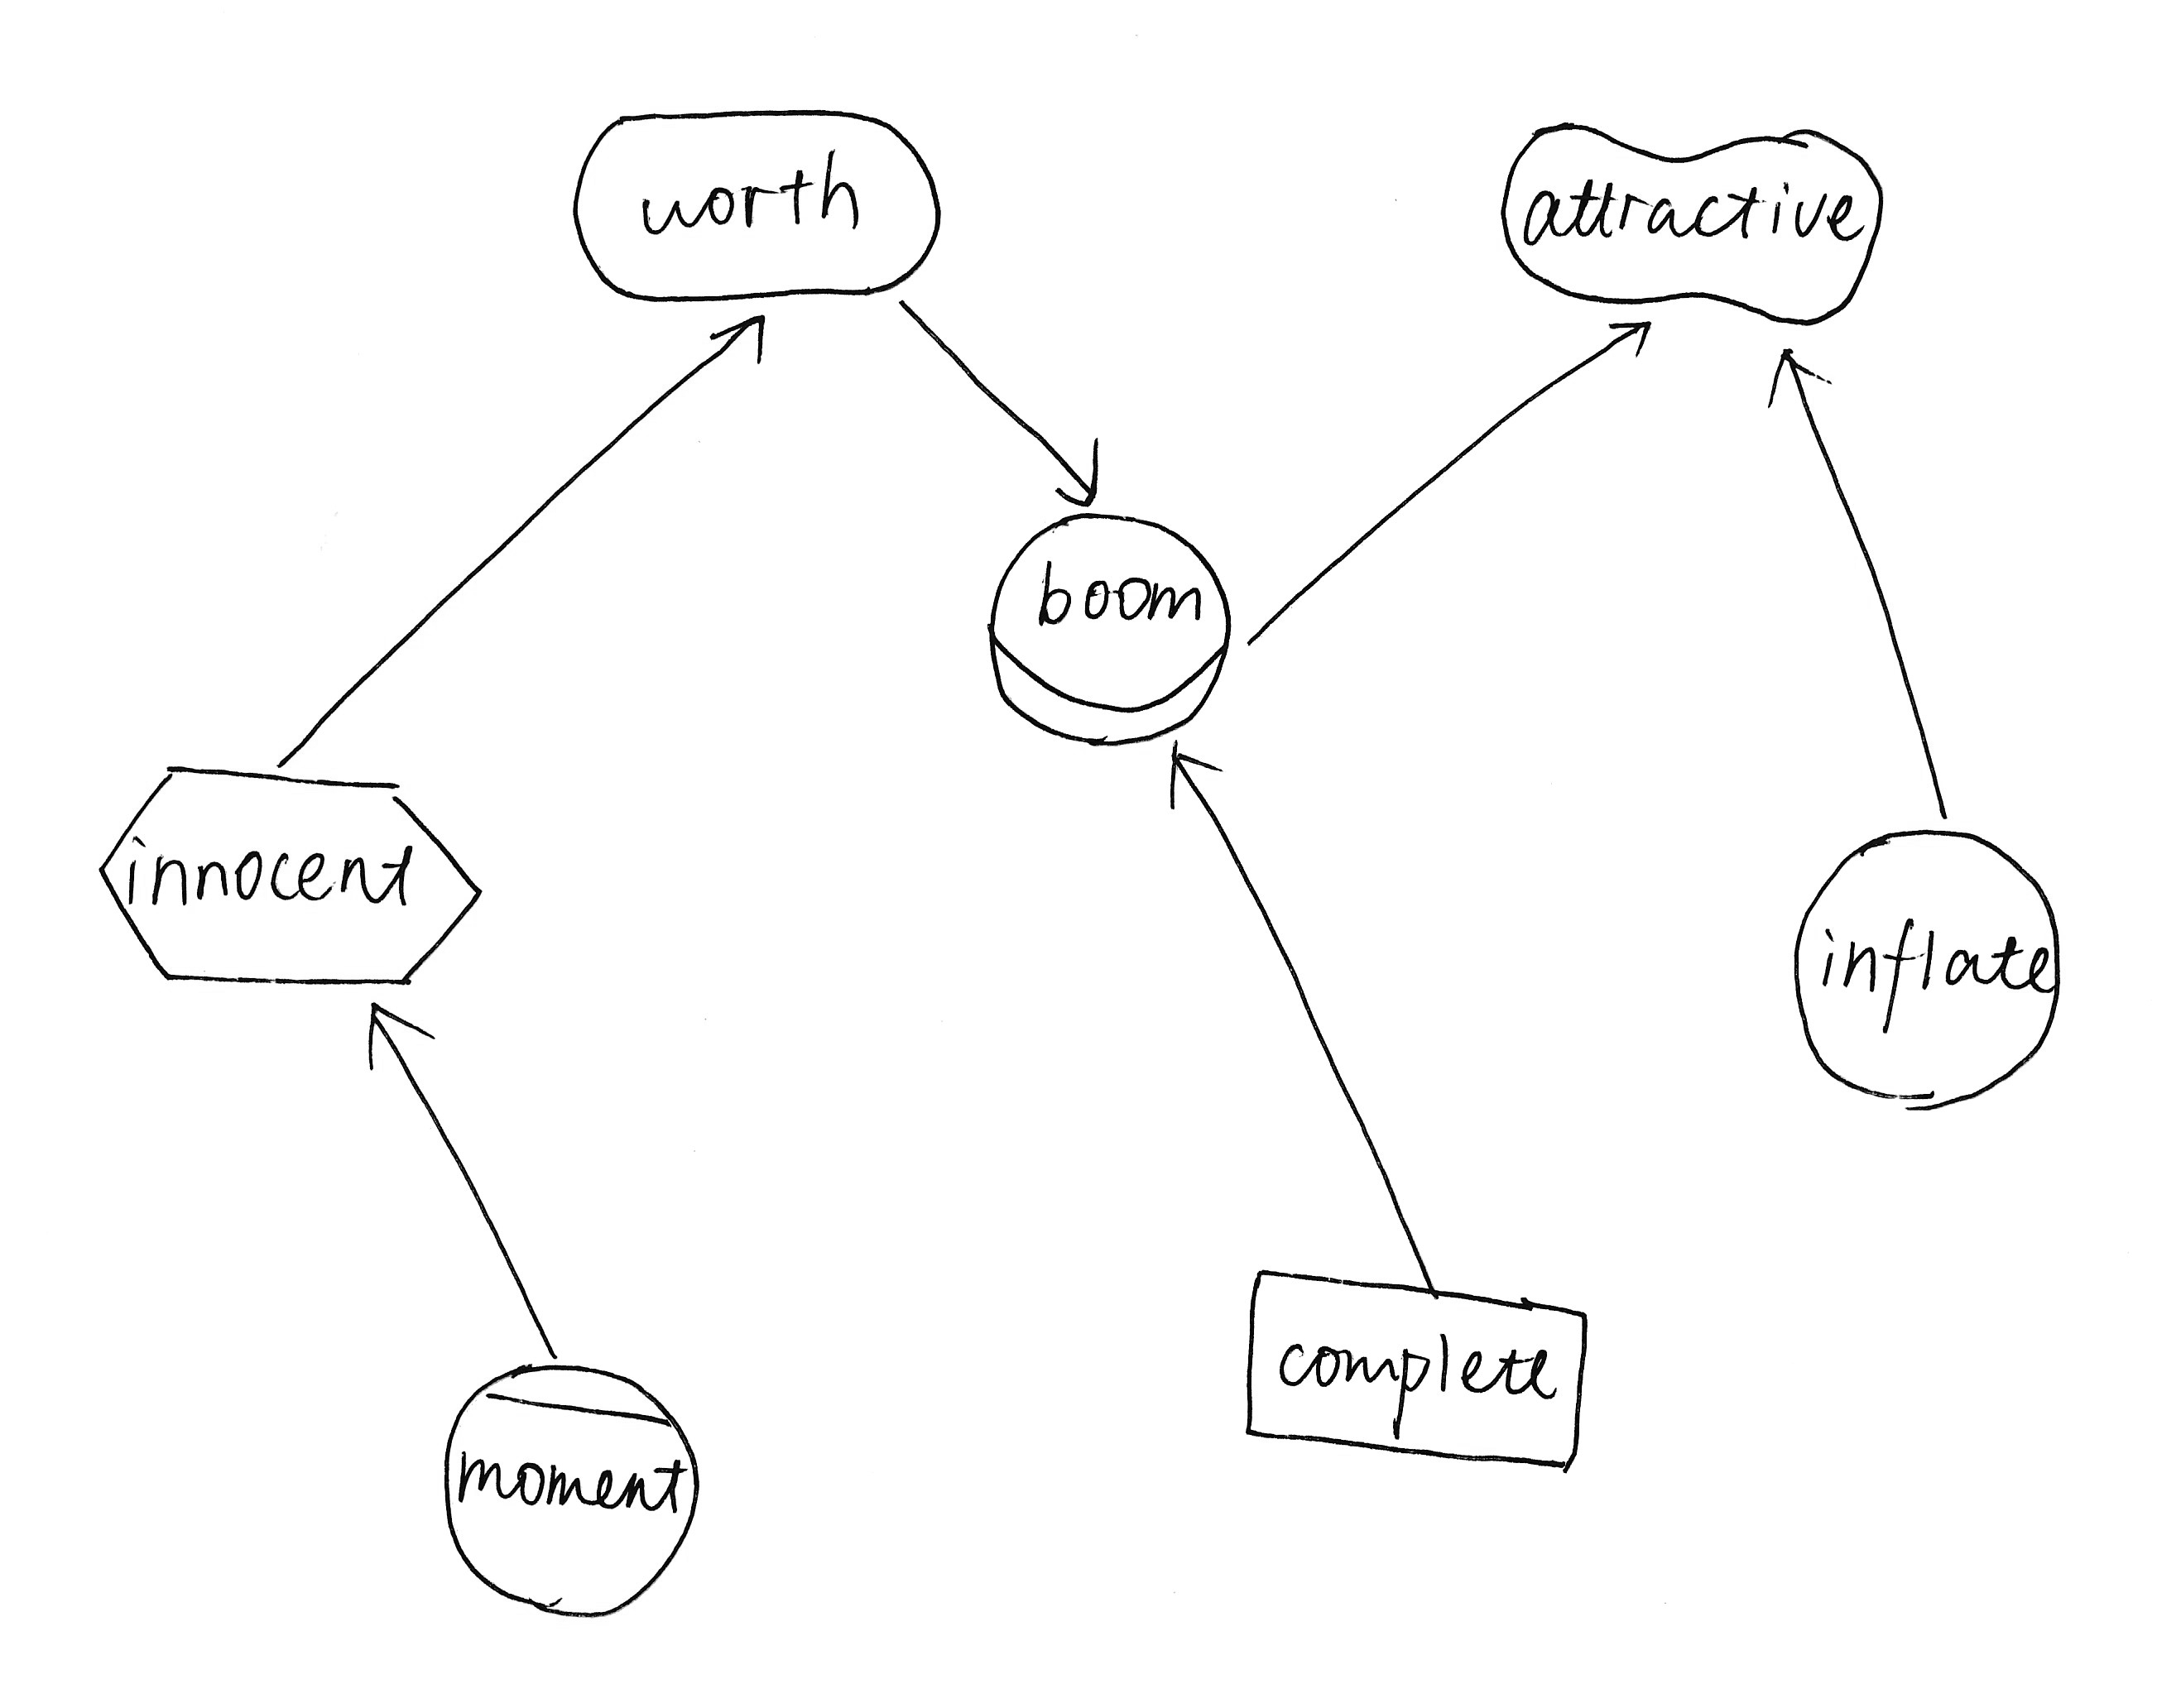actor: (1777, 811, 2092, 1129)
agent: (425, 1347, 724, 1628)
arrow: (335, 979, 450, 1085), (1746, 333, 1845, 423), (1034, 423, 1126, 519), (1142, 727, 1234, 818), (703, 294, 777, 379), (1593, 308, 1668, 370)
goal: (563, 74, 956, 319)
quality: (1482, 97, 1896, 338)
resource: (1216, 1251, 1606, 1487)
role: (975, 499, 1248, 763)
task: (69, 742, 490, 1007)
